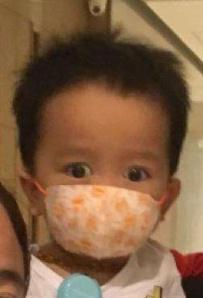OK: (41, 126, 166, 263)
